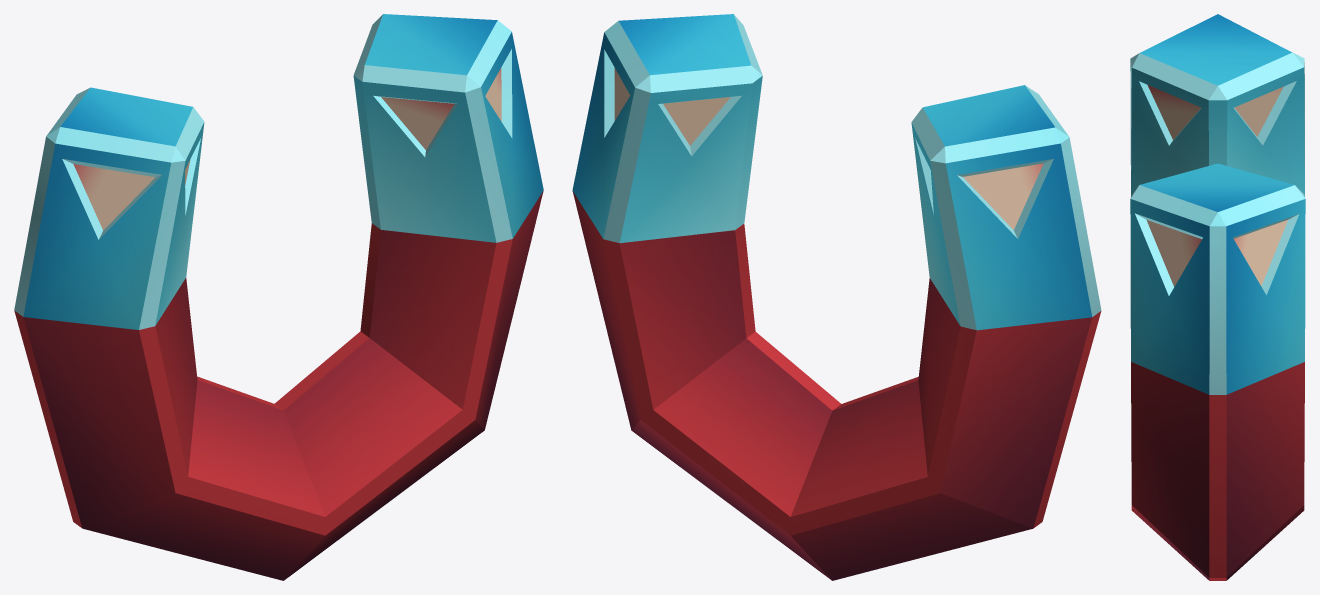
The model's file is magnetPowerUp.fbx.
3 views of the same model, side by side, from view 1: azimuth 30°, elevation 25°; view 2: azimuth 150°, elevation 25°; view 3: azimuth 270°, elevation 25° (orthographic). The views are drawn at different scales.
Visible parts, largest first — view 1: magnet; view 2: magnet; view 3: magnet.
Part boxes in pixels (box(x1,y1,x2,y2)): magnet: box(14, 14, 543, 580); magnet: box(572, 14, 1101, 580); magnet: box(1130, 14, 1305, 580).
Size of the model in its own units: 37.78 by 34.97 by 11.86.
